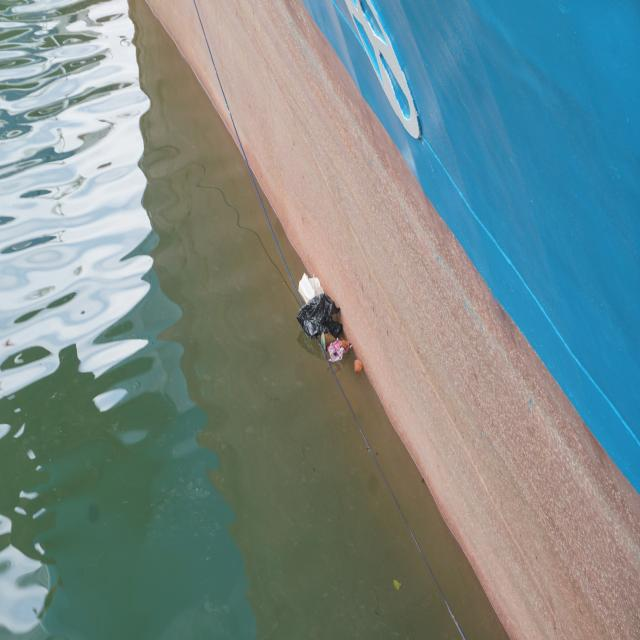Bungkus Makanan: (293, 270, 324, 303), (329, 339, 355, 366)
Bungkus Minuman: (321, 333, 338, 351)
Kantong Plastik: (298, 294, 344, 340)
